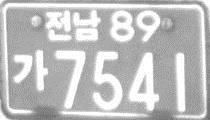1: (173, 52, 187, 113)
4: (126, 51, 159, 111)
5: (91, 50, 123, 111)
7: (53, 48, 87, 110)
8: (109, 9, 134, 43)
9: (135, 10, 161, 43)
가: (11, 49, 49, 93)
전남_O: (44, 9, 100, 43)
